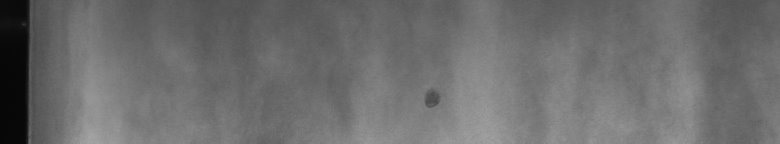fi: (420, 84, 444, 112)
